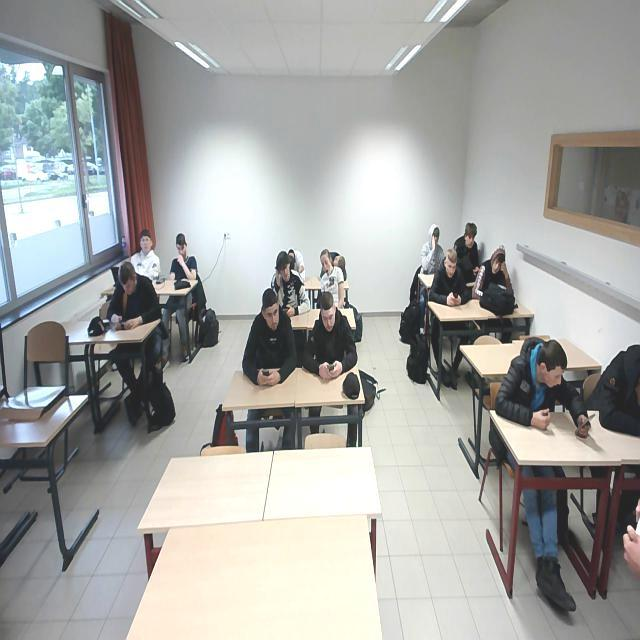Looking away: (270, 250, 294, 289), (317, 251, 335, 279), (430, 224, 443, 247)
Looking forward: (487, 246, 511, 283), (134, 227, 156, 260), (173, 231, 189, 265)
Phone use: (486, 344, 598, 436), (236, 290, 299, 390), (298, 284, 359, 376), (99, 260, 154, 332), (426, 248, 467, 310), (456, 218, 486, 283)
